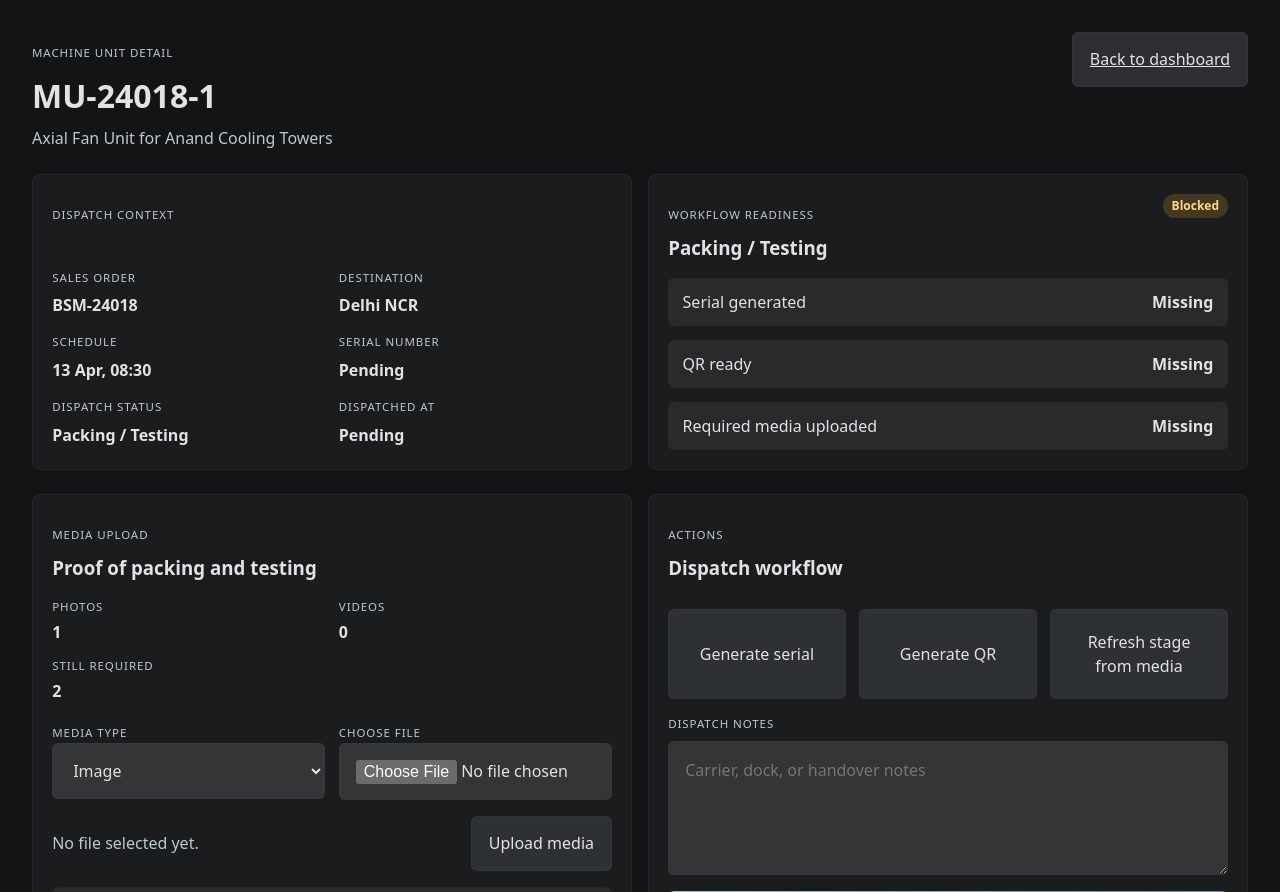
Test case: dashboard detail flow › shows an API error on machine detail actions instead of silently falling back
Expected: the button "Generate serial" is shown, [668,609,846,699]
Step 1. Click the button "Generate QR" → (948, 654), box [859,609,1037,699]
(page scrolled)
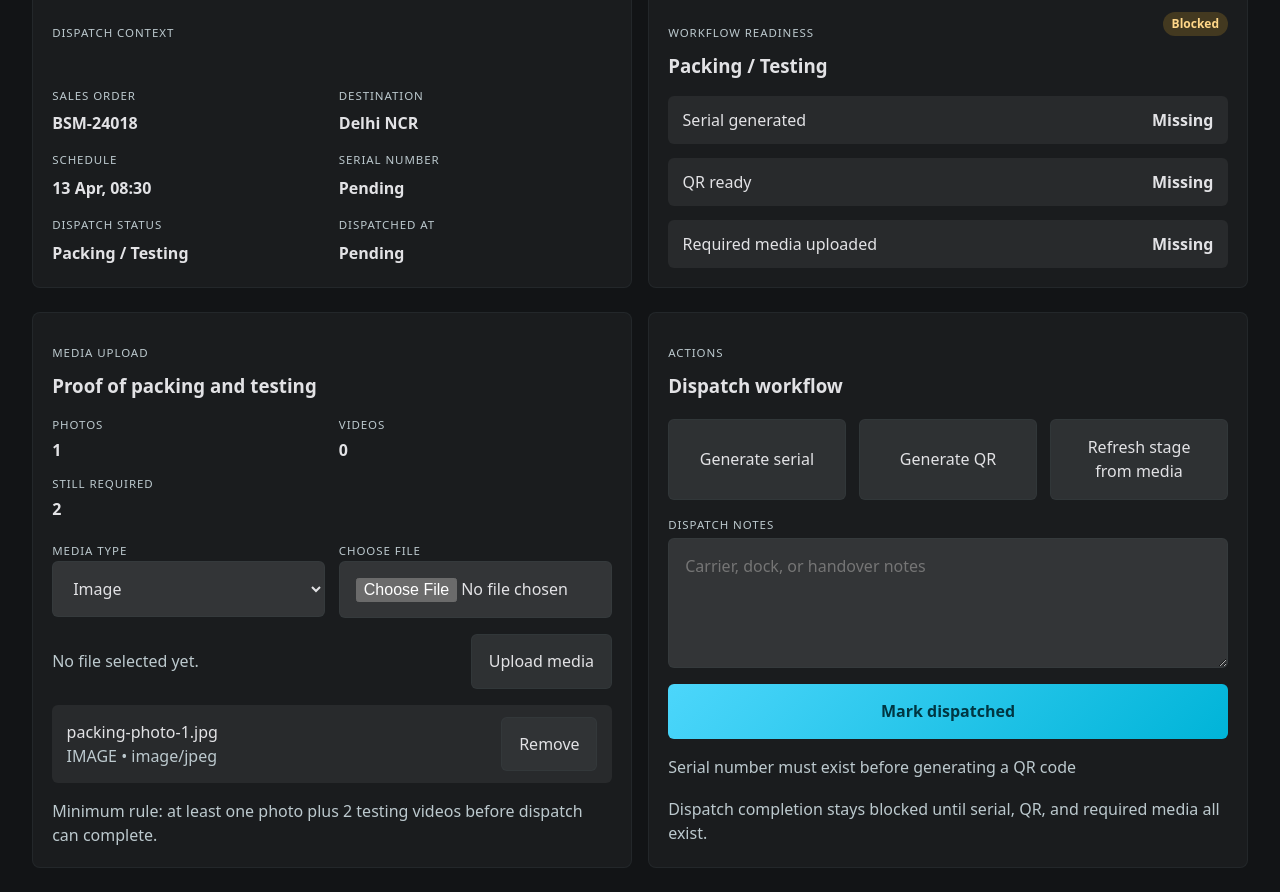
Result: the message reads "Serial number must exist before generating a QR code" at [668,756,1076,778]
